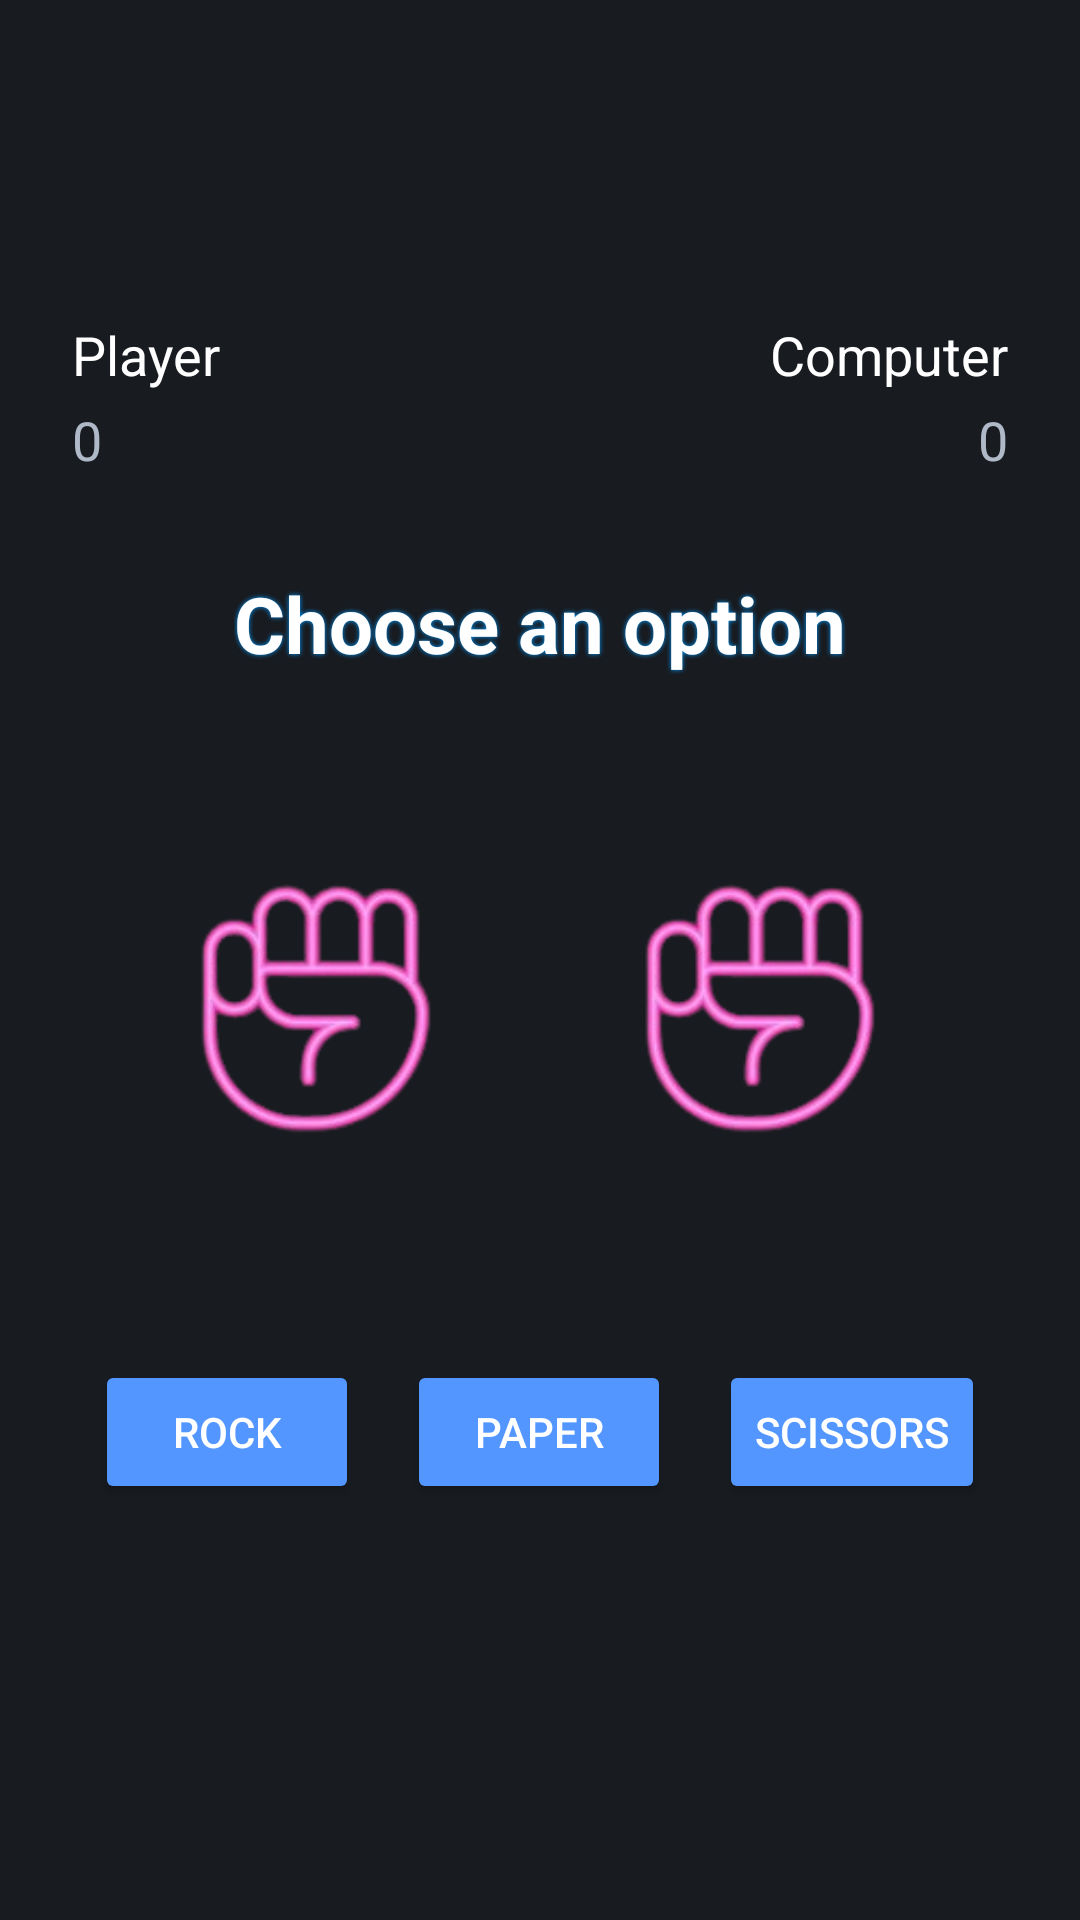

Named icons in this screenshot (1080px x 1920px) and their bounding boxes, (x1,y1,x2,y2):
Computer Hand: (646,885,874,1132)
Player Hand: (202,885,430,1132)
